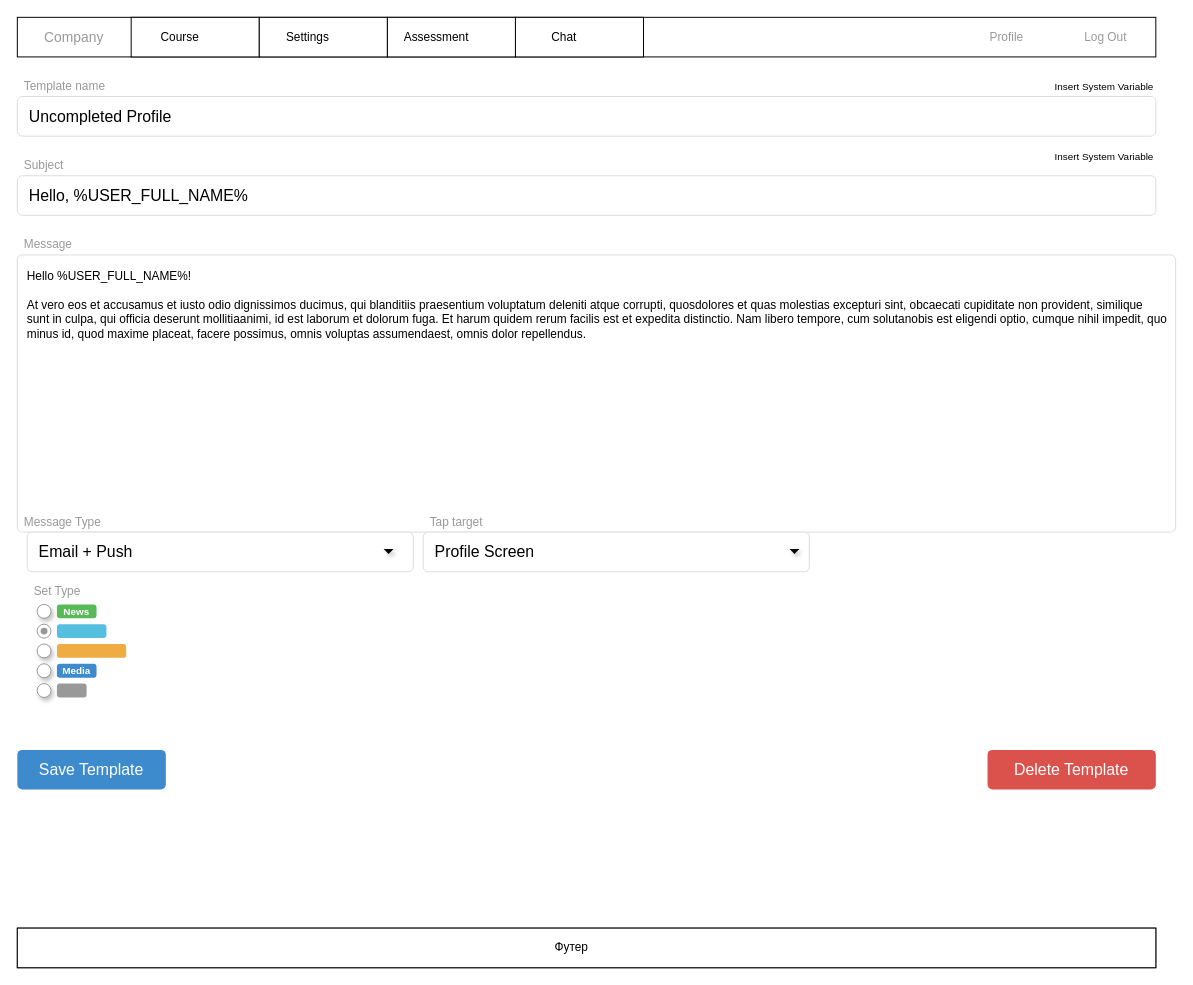
The diagram is 1193 pixels wide and 985 high, and some of its shapes have lost their labels. Each missing label, with the centre of its shape:
Documents: point 91,650
Reports: point 81,631
Text: point 71,690
